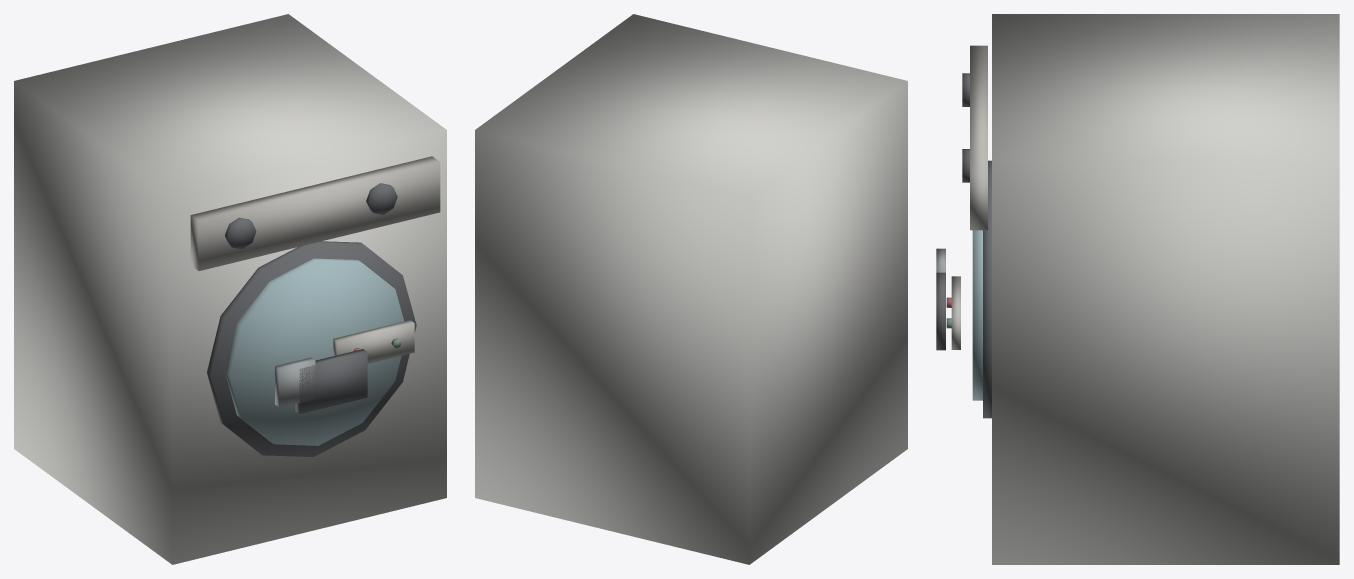
File: domestic_washer__weathered.glb
3 renders of one model, left to right at view 1: azimuth 30°, elevation 25°; view 2: azimuth 150°, elevation 25°; view 3: azimuth 270°, elevation 25°, orthographic. The views are drawn at different scales.
Visible parts, largest first — view 1: world; view 2: world; view 3: world.
Part boxes in pixels (x1,y1,x2,y2): world: (14, 14, 446, 564); world: (475, 14, 907, 564); world: (936, 14, 1339, 564).
Size of the model in its own units: 0.68 by 0.8712 by 0.7889.
